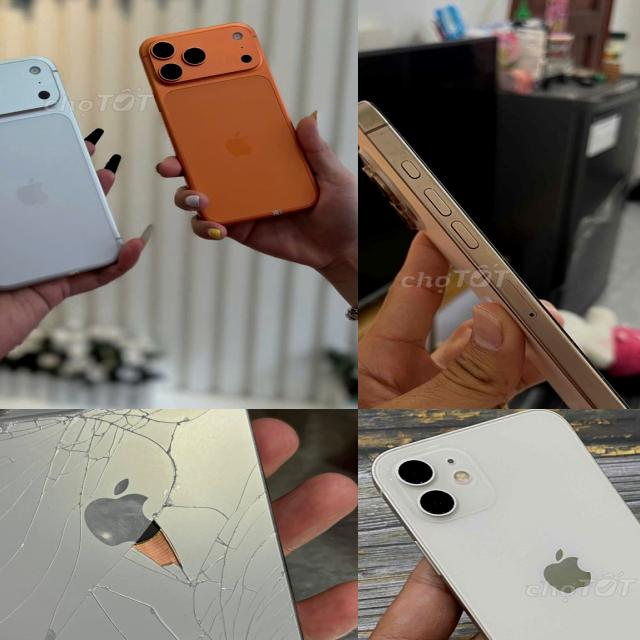physical_damage: (113, 496, 257, 588), (2, 490, 92, 582), (0, 419, 171, 462), (15, 600, 89, 640), (96, 583, 146, 629)
scratch: (378, 140, 428, 170), (358, 111, 371, 131)
